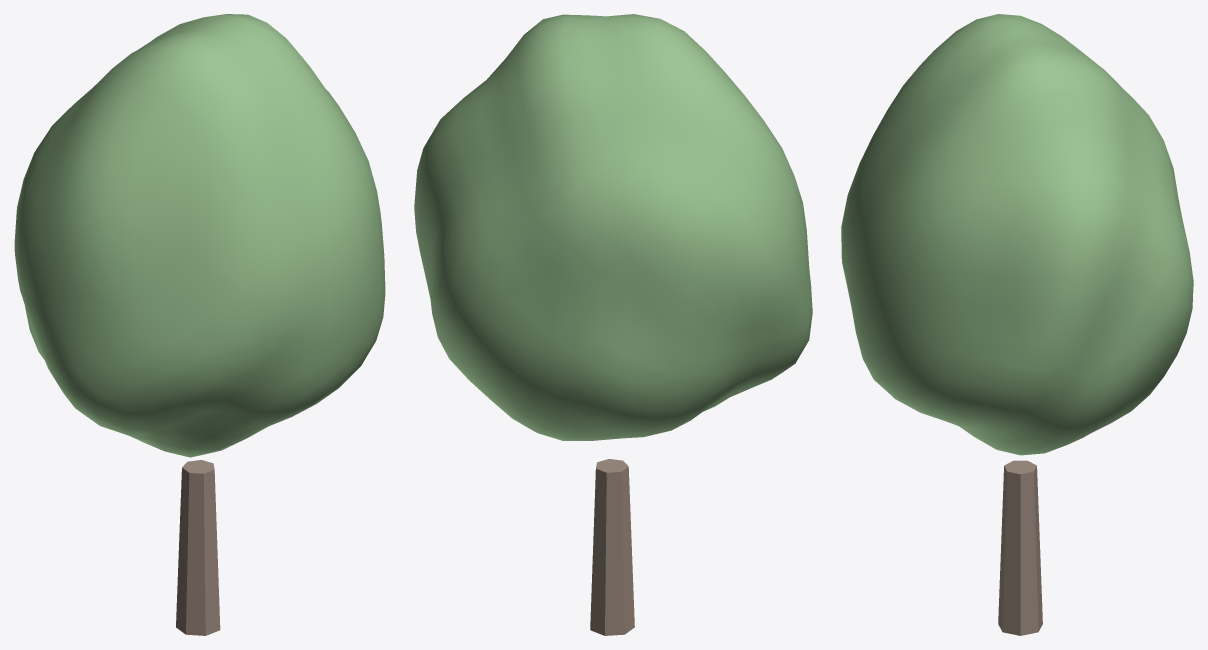
File: tree-broadleaf-d.glb
3 views of the same model, side by side, from view 1: azimuth 30°, elevation 25°; view 2: azimuth 150°, elevation 25°; view 3: azimuth 270°, elevation 25° (orthographic).
Parts seen in each view (by area): view 1: tree-broadleaf-d; view 2: tree-broadleaf-d; view 3: tree-broadleaf-d.
Part boxes in pixels (x1=…): tree-broadleaf-d: x1=14, y1=14, x2=385, y2=635; tree-broadleaf-d: x1=414, y1=14, x2=812, y2=635; tree-broadleaf-d: x1=841, y1=14, x2=1193, y2=635.
Size of the model in its own units: 0.6098 by 1 by 0.535.
